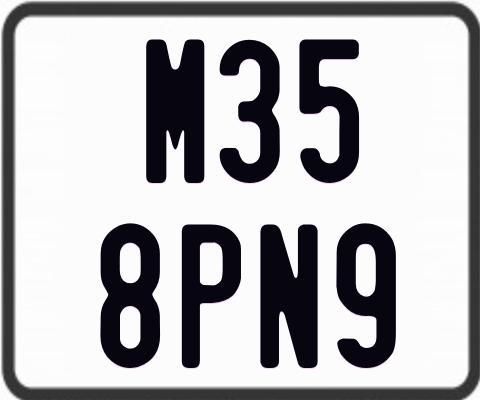3: (217, 40, 278, 183)
5: (298, 39, 360, 187)
8: (100, 223, 163, 374)
9: (336, 221, 401, 372)
M: (143, 38, 207, 188)
N: (258, 222, 322, 366)
P: (182, 224, 242, 374)
